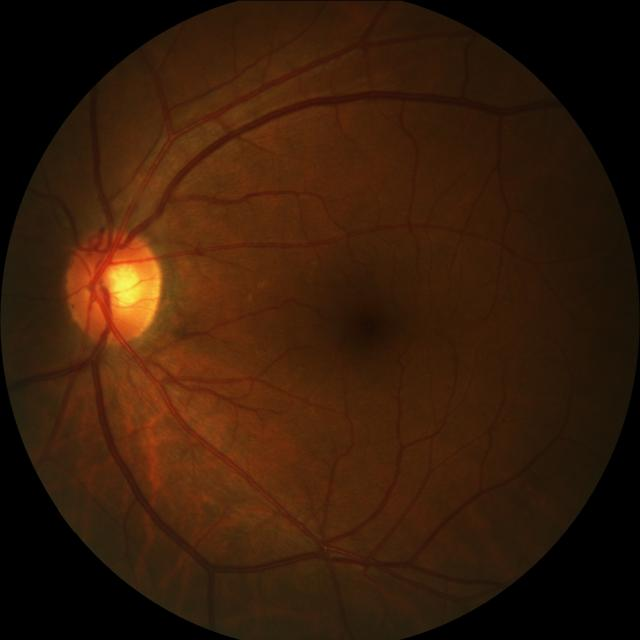OC: (92, 256, 144, 310)
OD: (66, 226, 164, 342)
